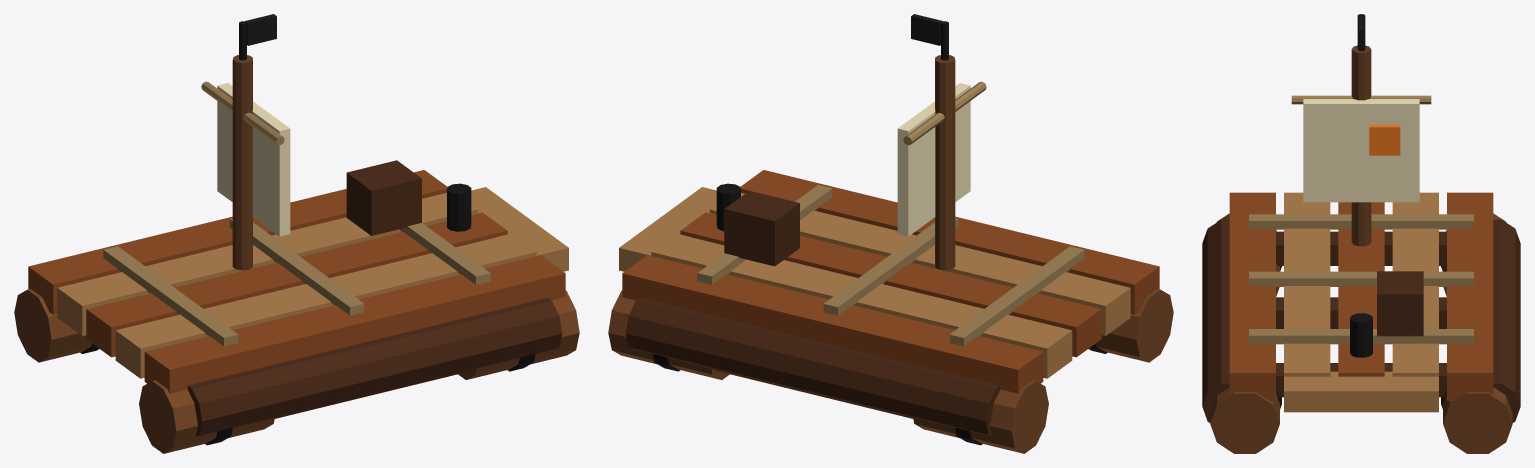
The model's file is Jack_Raft.obj.
3 views of the same model, side by side, from view 1: azimuth 30°, elevation 25°; view 2: azimuth 150°, elevation 25°; view 3: azimuth 270°, elevation 25° (orthographic). The views are drawn at different scales.
Visible parts, largest first — view 1: Jack_Raft; view 2: Jack_Raft; view 3: Jack_Raft.
Part boxes in pixels (x1,y1,x2,y2): Jack_Raft: (14, 14, 579, 453); Jack_Raft: (608, 14, 1173, 453); Jack_Raft: (1202, 14, 1520, 453).
Bounding box in the file's own units: 1.2 × 0.9204 × 0.82.
